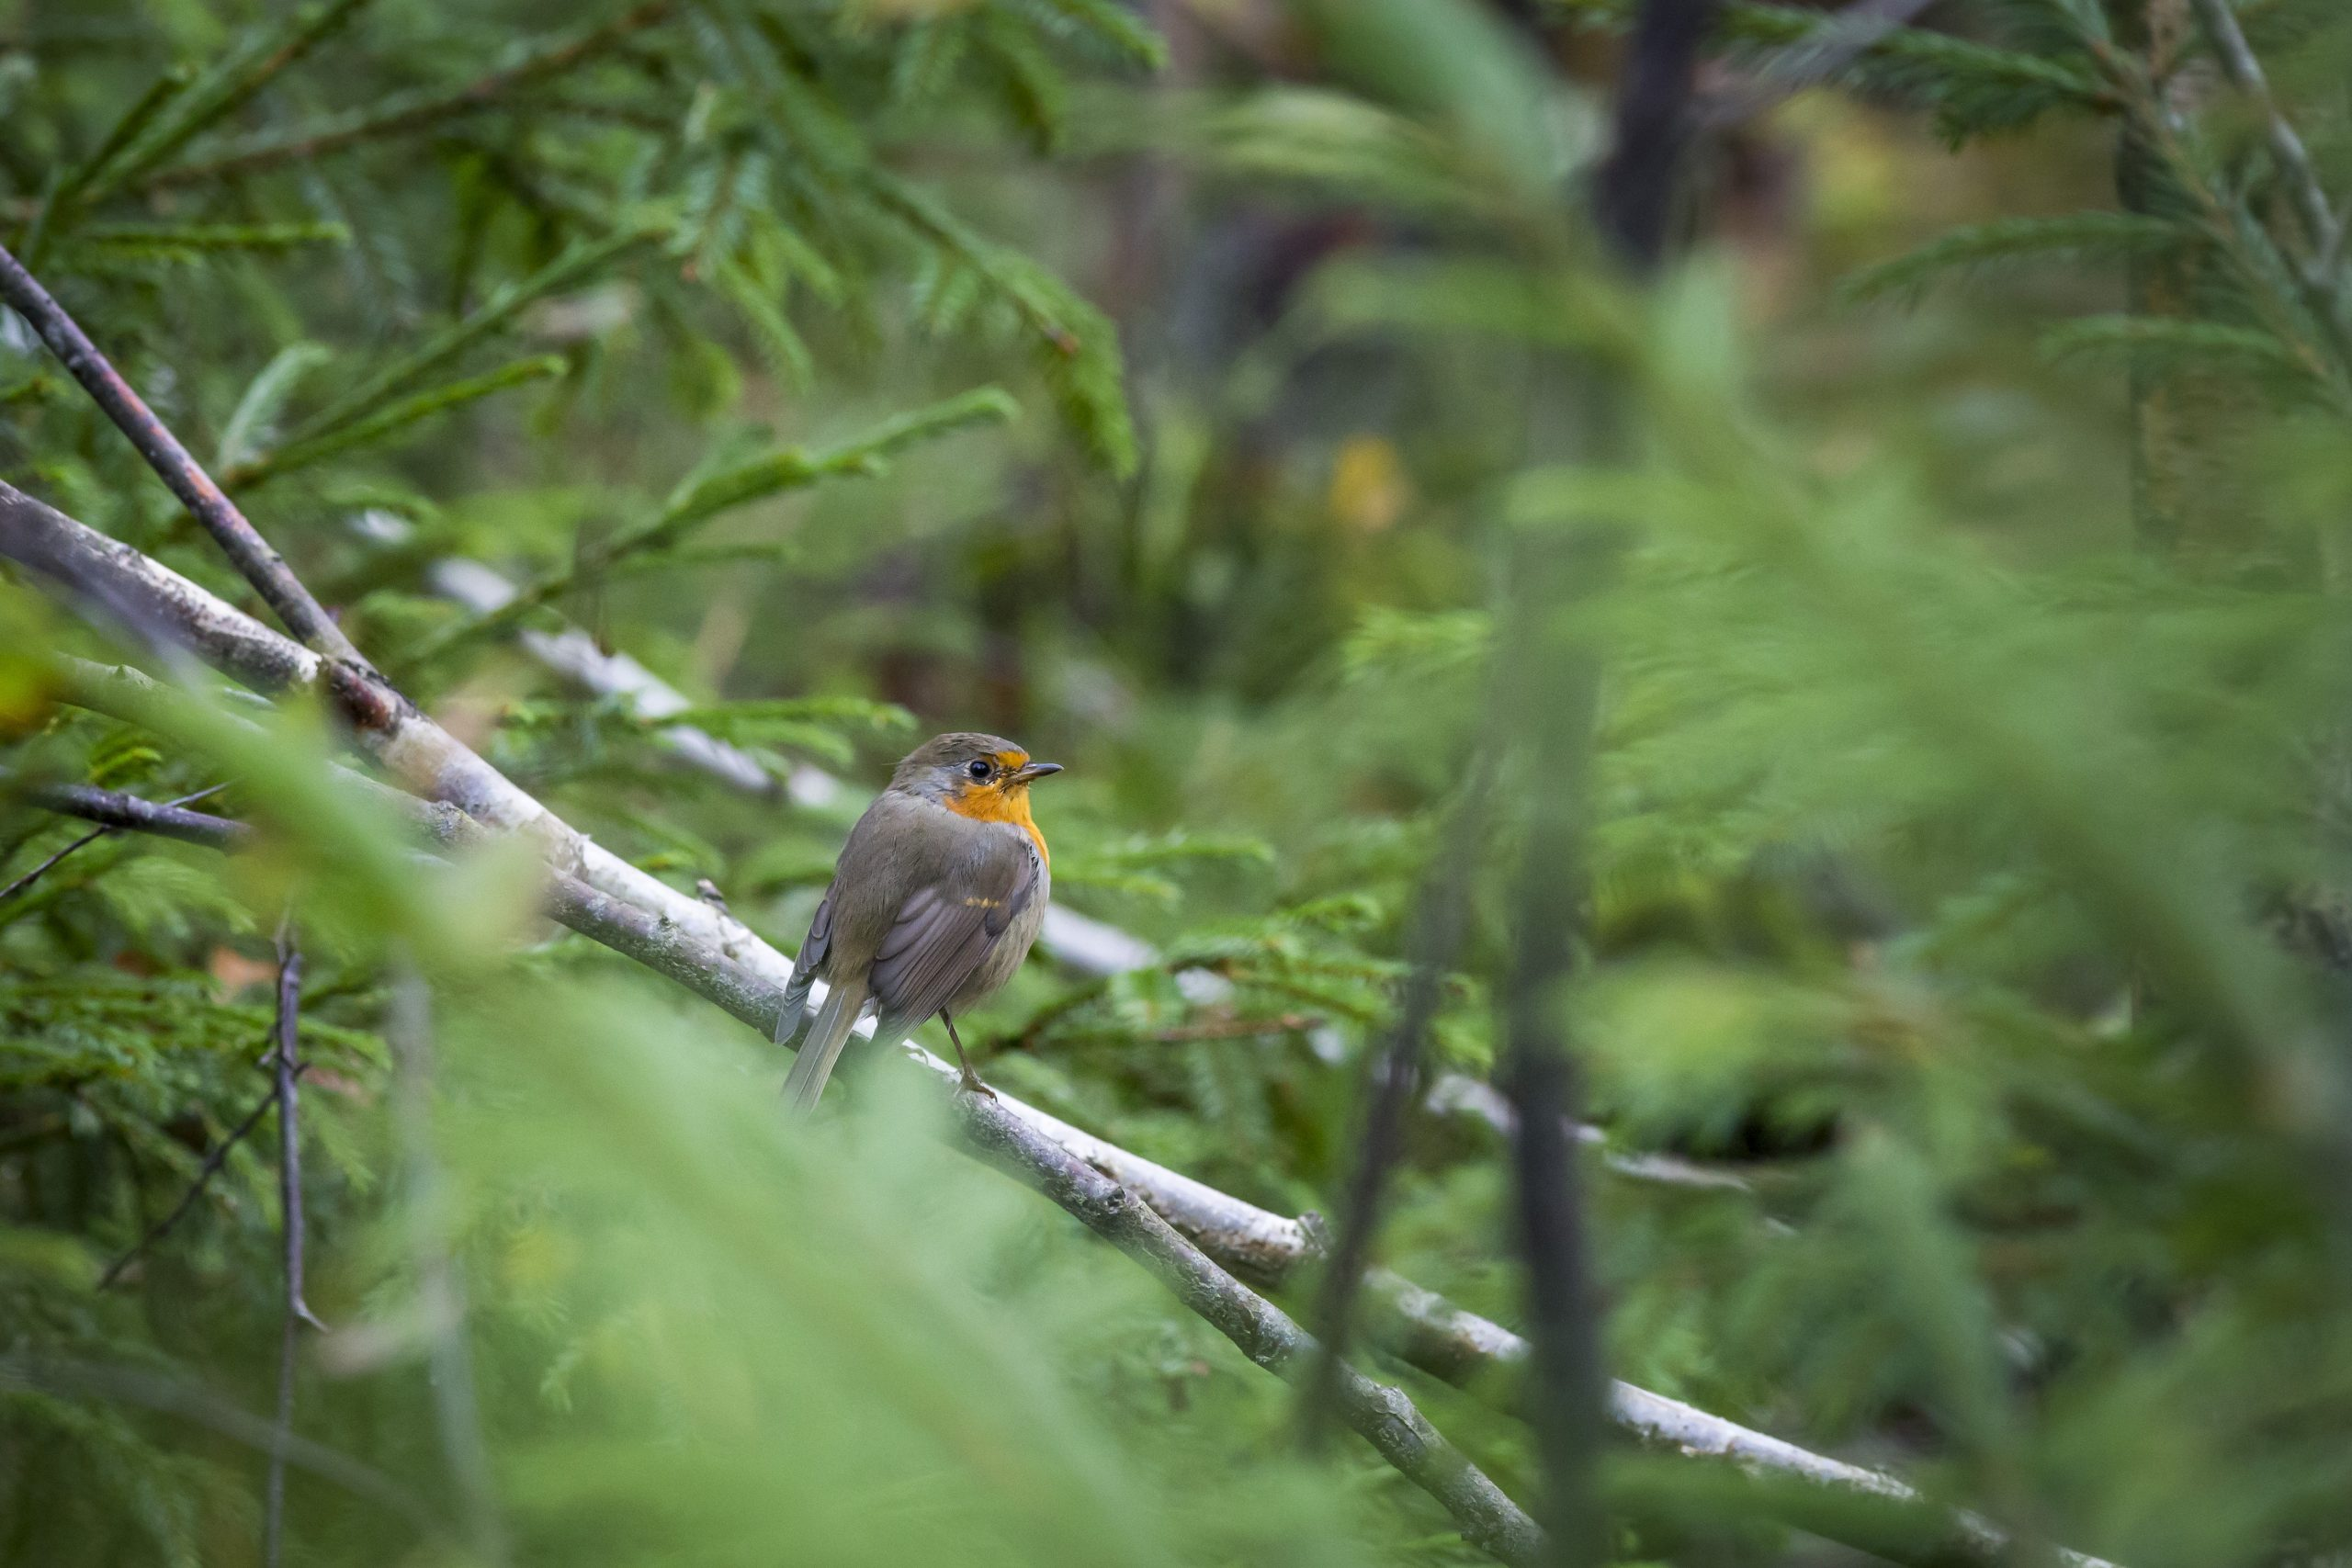bird: (719, 677, 1108, 1169)
